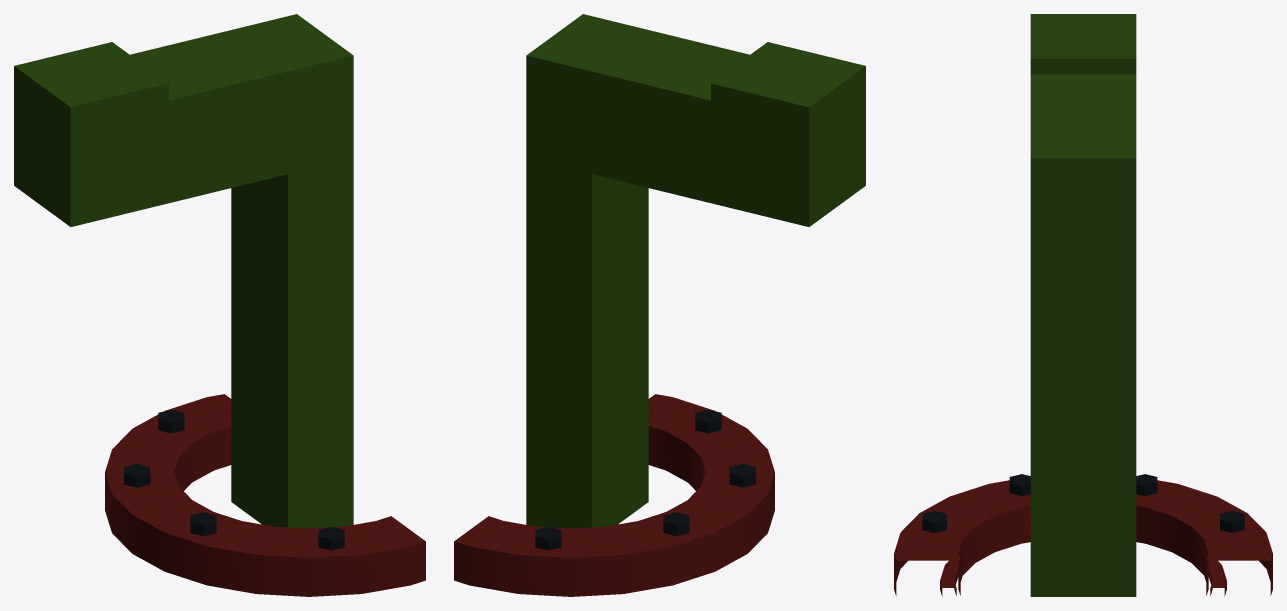
File: cell_81.obj
3 views of the same model, side by side, from view 1: azimuth 30°, elevation 25°; view 2: azimuth 150°, elevation 25°; view 3: azimuth 270°, elevation 25° (orthographic). The views are drawn at different scales.
Parts seen in each view (by area): view 1: cell_81; view 2: cell_81; view 3: cell_81.
Part boxes in pixels (<box>): cell_81: <box>14,14,425,596</box>; cell_81: <box>454,14,865,596</box>; cell_81: <box>894,14,1272,596</box>.
Bounding box in the file's own units: 0.605 × 1 × 0.755.
